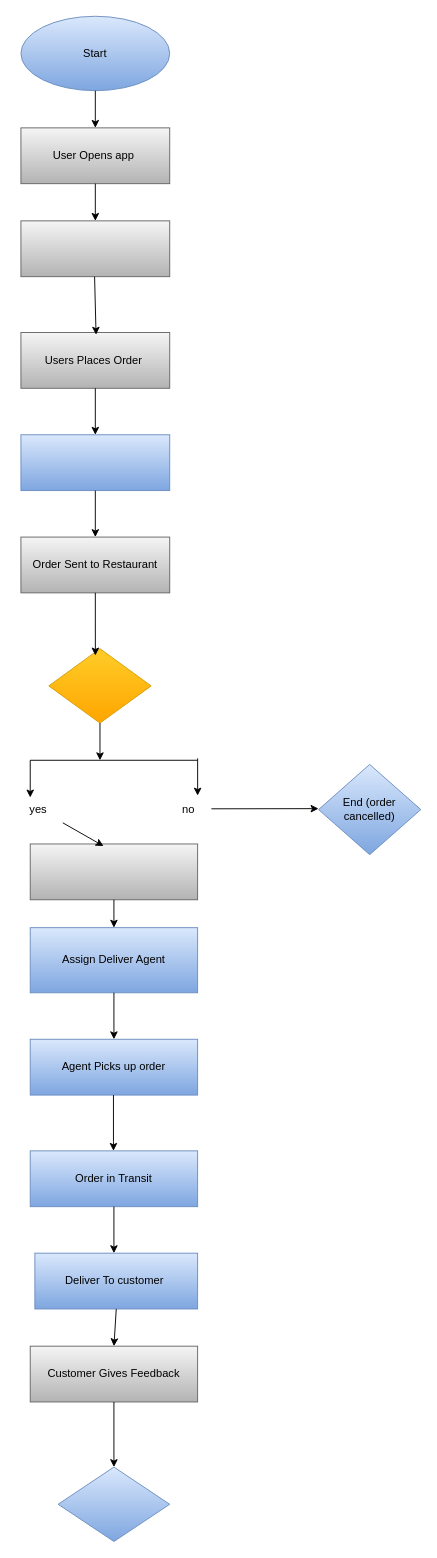
This 437x1558 diagram has some shape labels left out. Here are the shapes that lost their labels. From the top down, the box of each, then its label:
(20, 220, 170, 277): User Browses Restaurants&Menu
(20, 434, 170, 491): Payment Processing
(48, 648, 151, 723): Restaurant Accepts Order
(29, 843, 198, 900): Prepare Order
(57, 1466, 170, 1541): End
